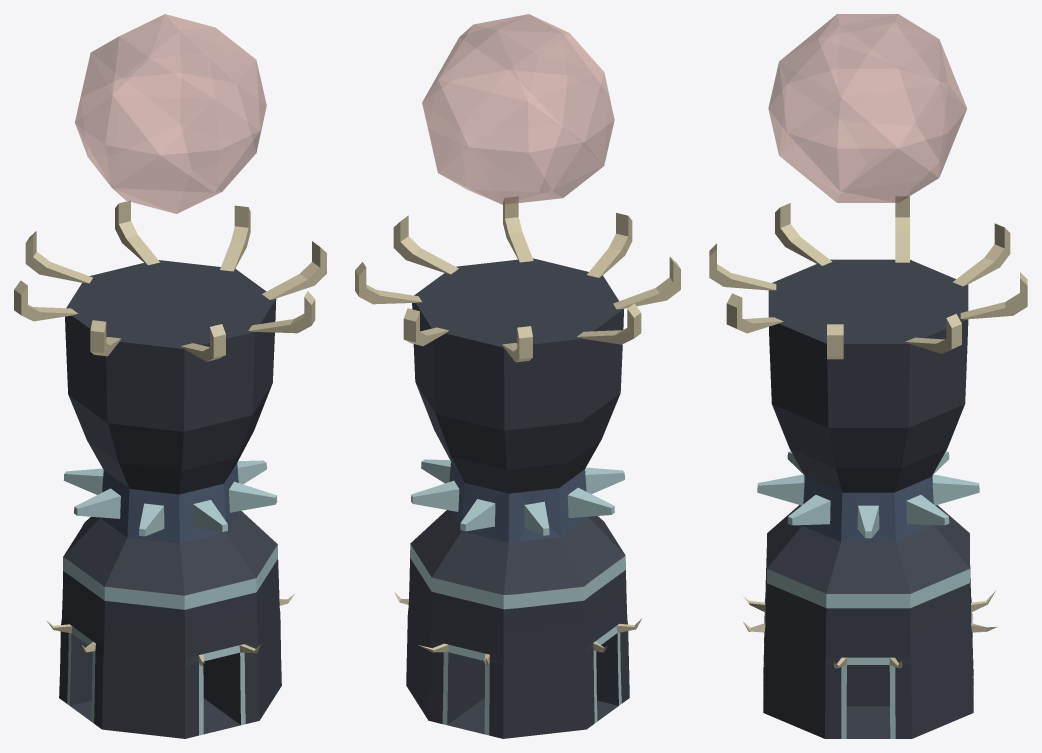
The model's file is MasterTowerModelv2.fbx.
3 renders of one model, left to right at view 1: azimuth 30°, elevation 25°; view 2: azimuth 150°, elevation 25°; view 3: azimuth 270°, elevation 25°, orthographic.
Visible parts, largest first — view 1: Cylinder, Icosphere; view 2: Cylinder, Icosphere; view 3: Cylinder, Icosphere.
Boxes of the visible parts, box(x1,y1,x2,y2) form: Cylinder: box(14, 200, 326, 738); Icosphere: box(75, 14, 266, 213); Cylinder: box(355, 196, 680, 738); Icosphere: box(422, 14, 614, 204); Cylinder: box(709, 196, 1027, 738); Icosphere: box(768, 14, 966, 202).
Size of the model in its own units: 412 by 968 by 412.
